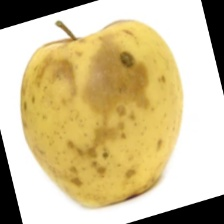apple: (33, 19, 191, 211)
